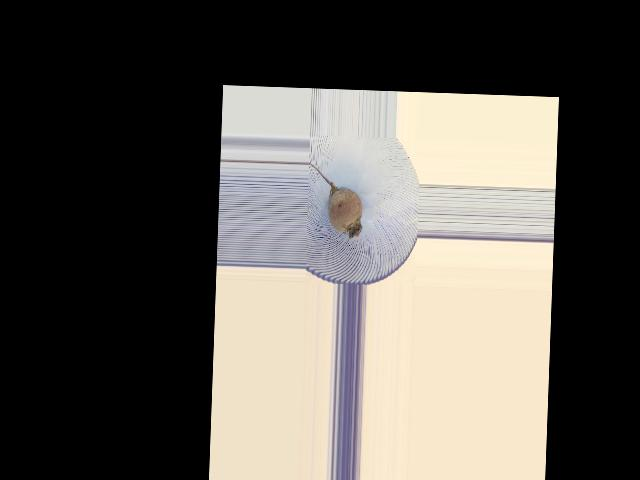beet: (305, 163, 363, 238)
